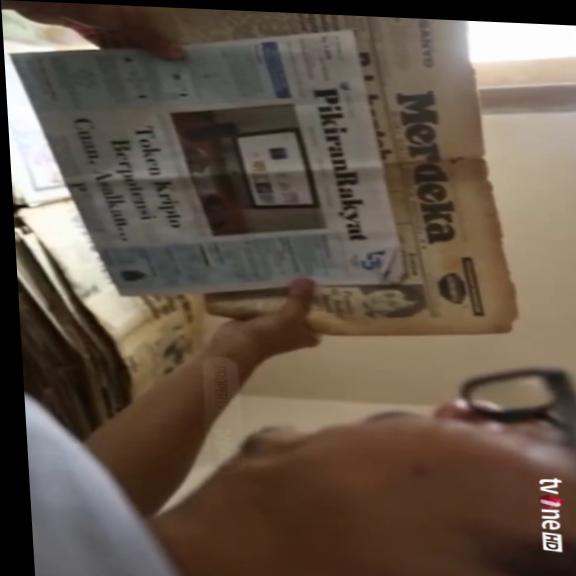Kertas: (189, 11, 406, 303), (357, 21, 516, 337)
